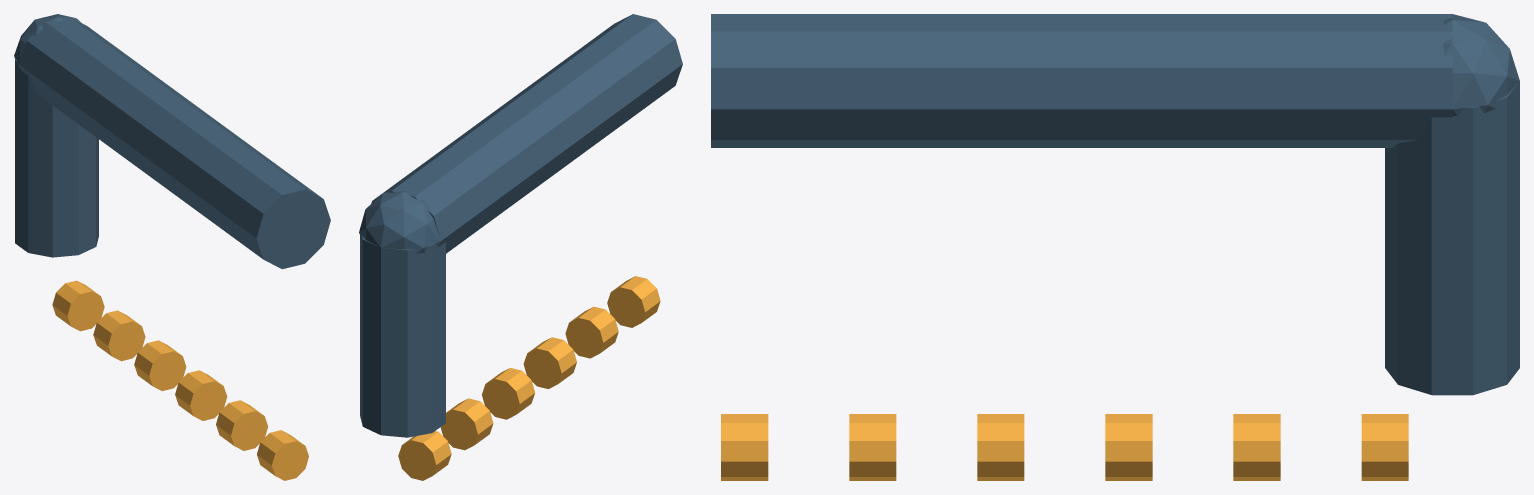
File: 18_L77_MotorizedBulkSlurryArm.fbx
3 views of the same model, side by side, from view 1: azimuth 30°, elevation 25°; view 2: azimuth 150°, elevation 25°; view 3: azimuth 270°, elevation 25° (orthographic). The views are drawn at different scales.
Parts seen in each view (by area): view 1: MotorizedBulkSlurryArm; view 2: MotorizedBulkSlurryArm; view 3: MotorizedBulkSlurryArm.
Part boxes in pixels (<box>): MotorizedBulkSlurryArm: <box>14,14,330,480</box>; MotorizedBulkSlurryArm: <box>359,14,682,480</box>; MotorizedBulkSlurryArm: <box>711,14,1519,480</box>.
Bounding box in the file's own units: 20 × 74.76 × 120.
